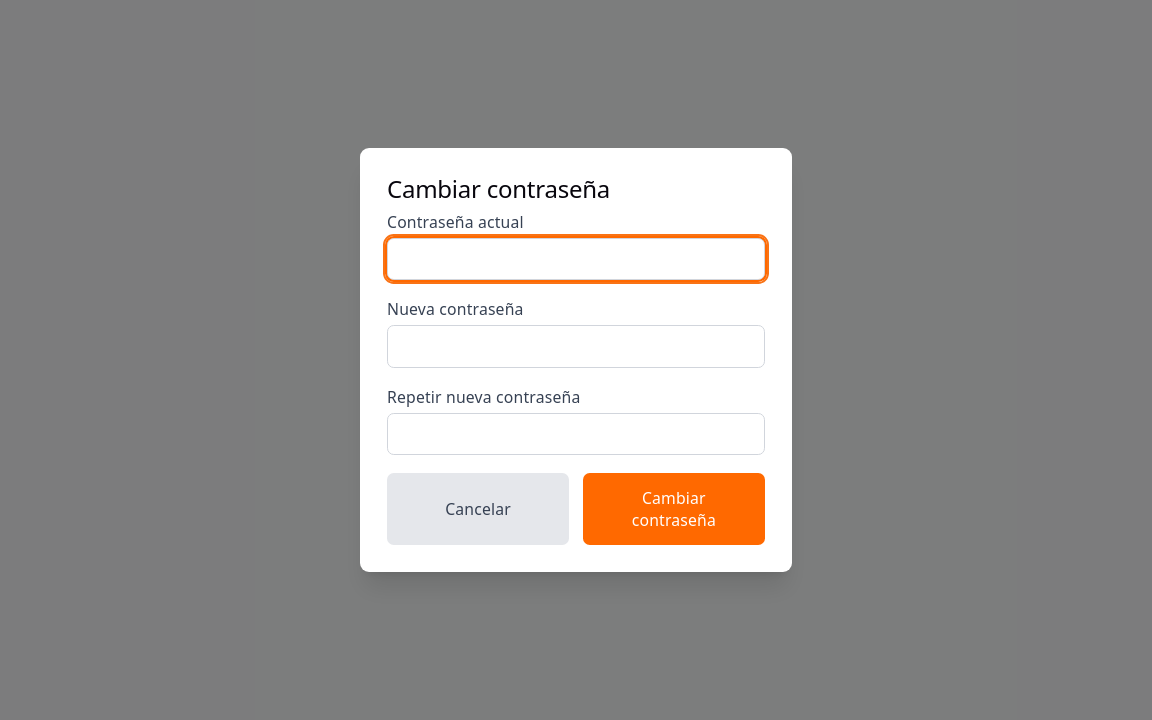
Test: ChangePasswordDialog › rejects a confirmation that does not match
Step 1. Type "current-secret" into the password field labelled "Contraseña actual" → (576, 259), box [387, 238, 765, 280]
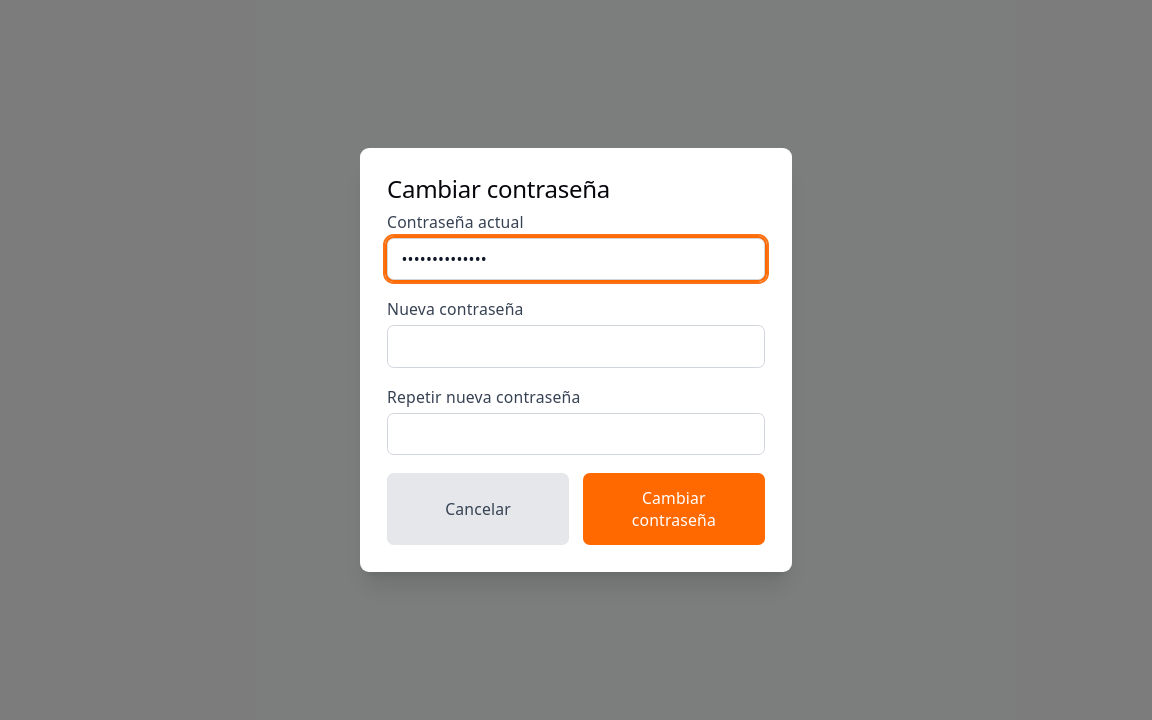
Step 2. Type "new-secret-1" into the password field labelled "Nueva contraseña" → (576, 347), box [387, 325, 765, 368]
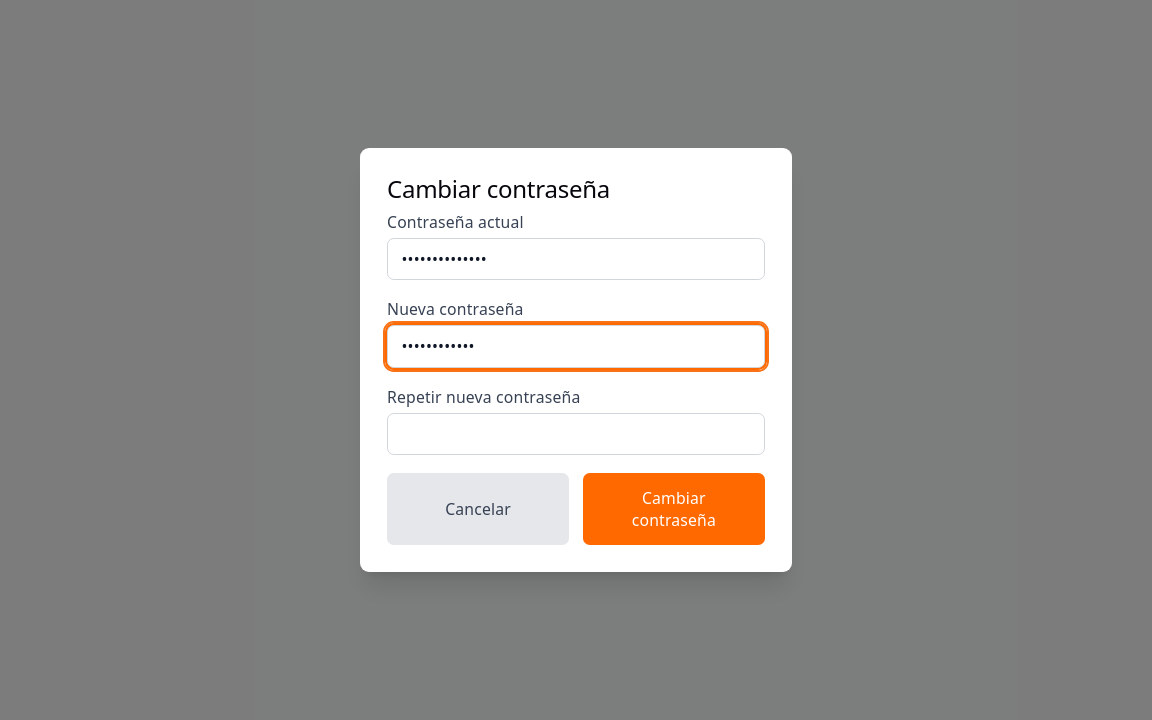
Step 3. Type "new-secret-2" into the password field labelled "Repetir nueva contraseña" → (576, 434), box [387, 413, 765, 455]
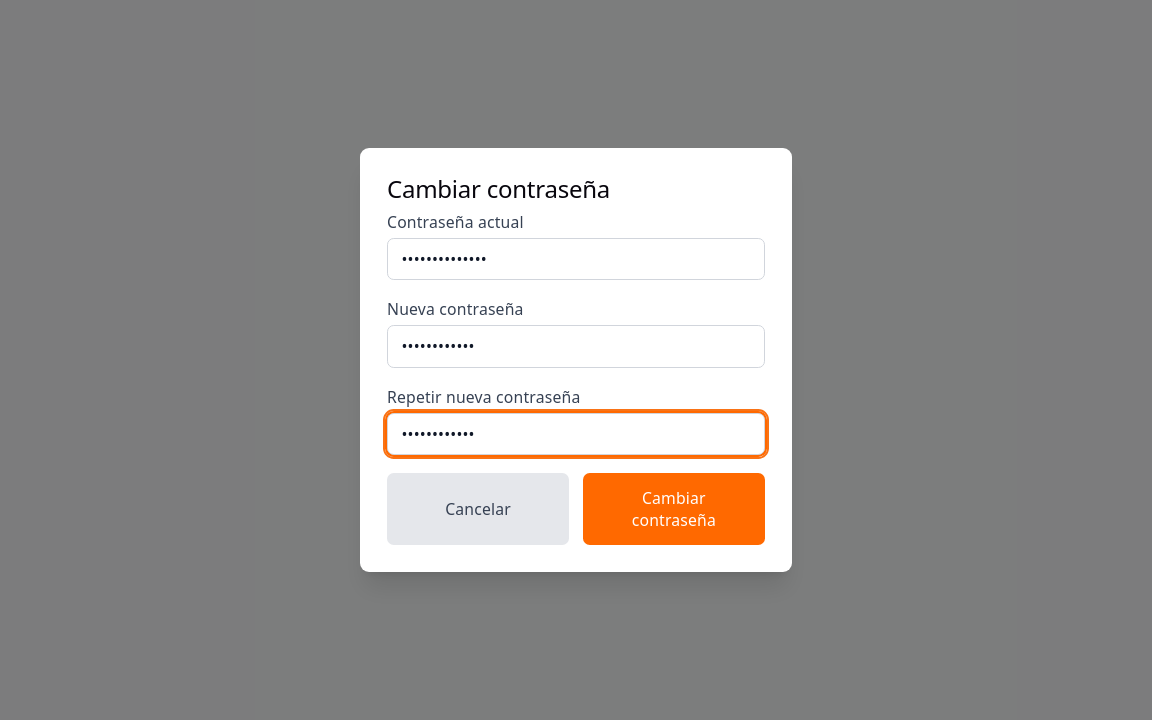
Step 4. Click the button "Cambiar contraseña" → (674, 509), box [583, 473, 765, 545]
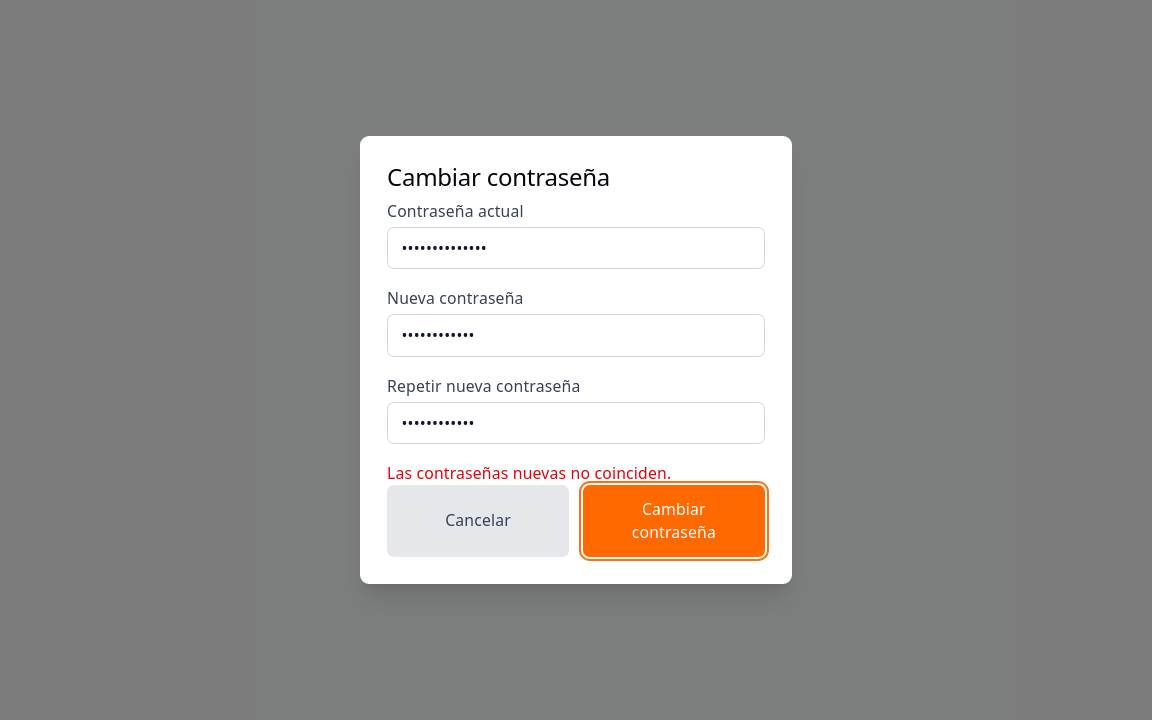
Expected: the message reads "Las contraseñas nuevas no coinciden.", [387, 462, 671, 484]
